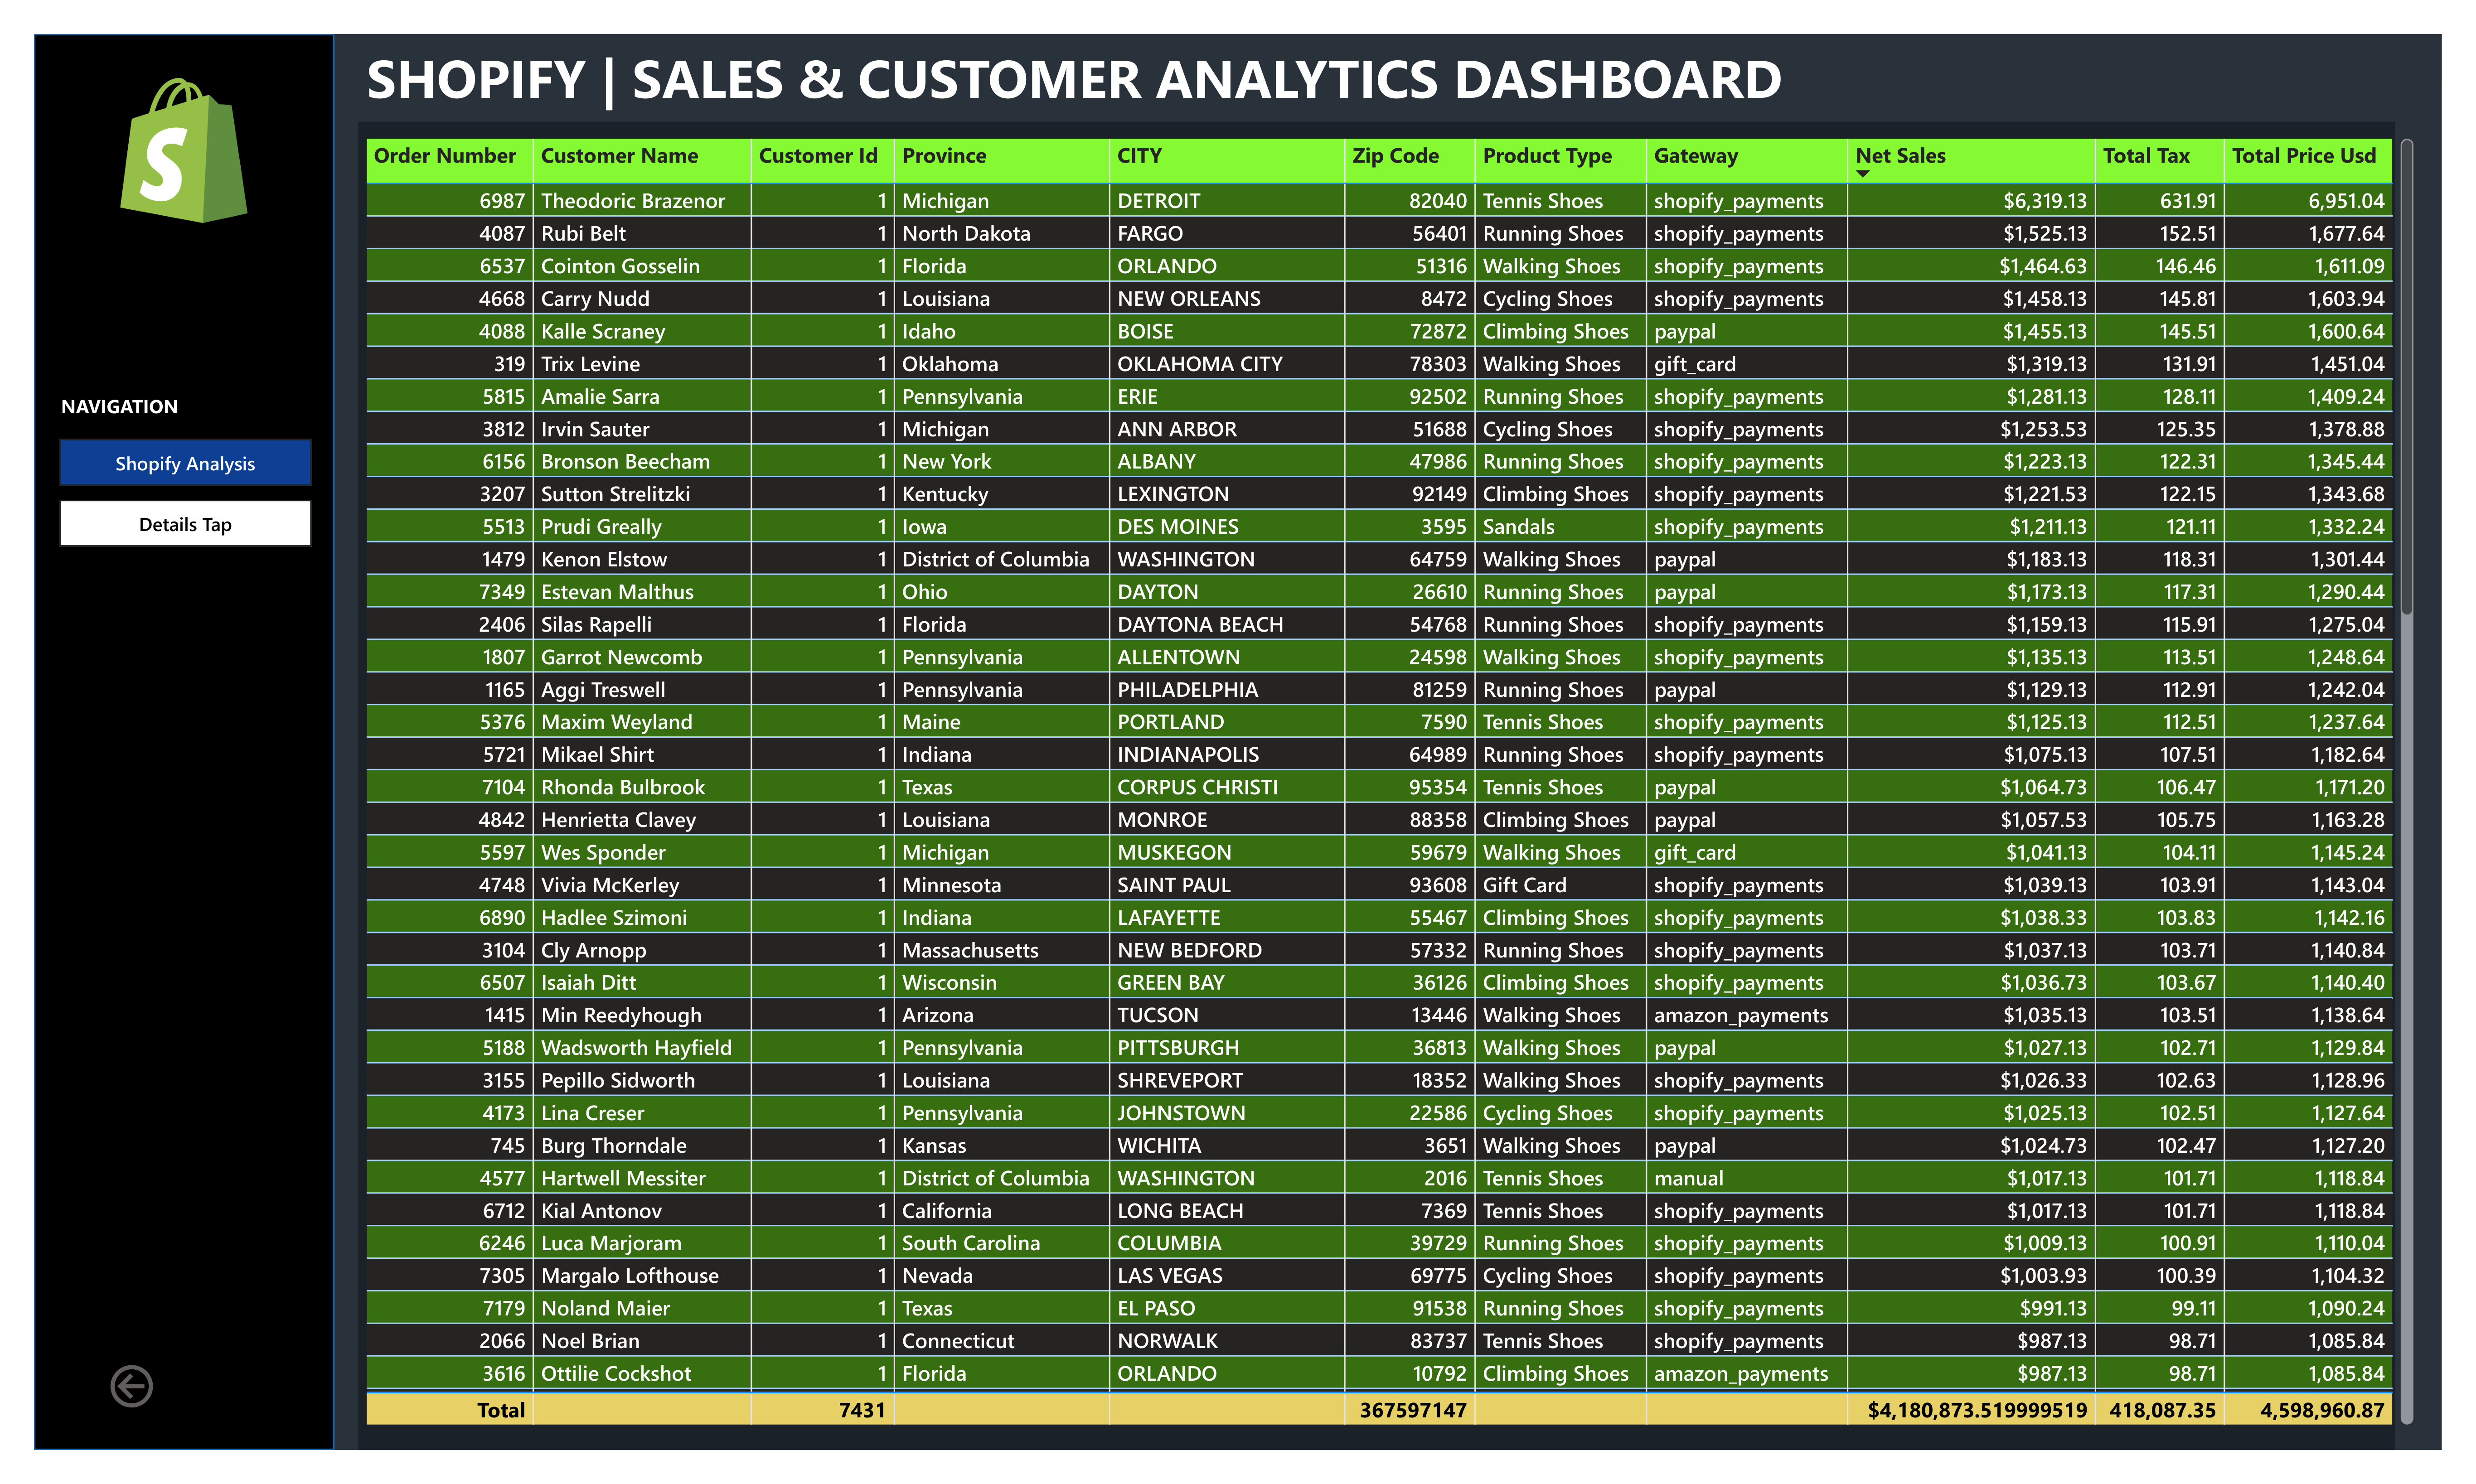

Layout of this report page (visuals, bound fields, positions):
{"tool":"powerbi","page":{"name":"Details Tap","canvas":[1700,1000],"ordinal":1},"visuals":[{"type":"shape","box":[0,0,211.8,1000],"z":0},{"type":"textbox","box":[230,0,1050,70],"z":1000},{"type":"shape","box":[228.7,61.5,1438.5,938.5],"z":2000},{"type":"image","box":[61.4,29.7,89.2,105],"z":3000},{"type":"tableEx","fields":{"Values":["shopify_sales.Order Number","shopify_sales.Customer Name","CountNonNull(shopify_sales.Customer Id)","shopify_sales.Billing Address Province","shopify_sales.CITY","Sum(shopify_sales.Billing Address Zip)","shopify_sales.Product Type","shopify_sales.Gateway","shopify_sales.Net Sales","Sum(shopify_sales.Total Tax)","Sum(shopify_sales.Total Price Usd)"]},"box":[228.6,69.4,1456.2,917.7],"z":4000},{"type":"actionButton","box":[49.1,934.7,54.2,40.6],"z":5000},{"type":"pageNavigator","box":[18,286,178,76],"z":5001},{"type":"textbox","box":[14,249,185,37],"z":5002}]}

Visuals, with their boxes on the page's 1700x1000 design canvas (x1, y1, x2, y2). These are canvas units, not pixel positions in the 2476x1484 screenshot, which may show the page scaled, cropped or inside an application window:
shape: [x1=0, y1=0, x2=212, y2=1000]
textbox: [x1=230, y1=0, x2=1280, y2=70]
shape: [x1=229, y1=62, x2=1667, y2=1000]
image: [x1=61, y1=30, x2=151, y2=135]
tableEx - shopify_sales.Order Number x shopify_sales.Customer Name: [x1=229, y1=69, x2=1685, y2=987]
actionButton: [x1=49, y1=935, x2=103, y2=975]
pageNavigator: [x1=18, y1=286, x2=196, y2=362]
textbox: [x1=14, y1=249, x2=199, y2=286]
